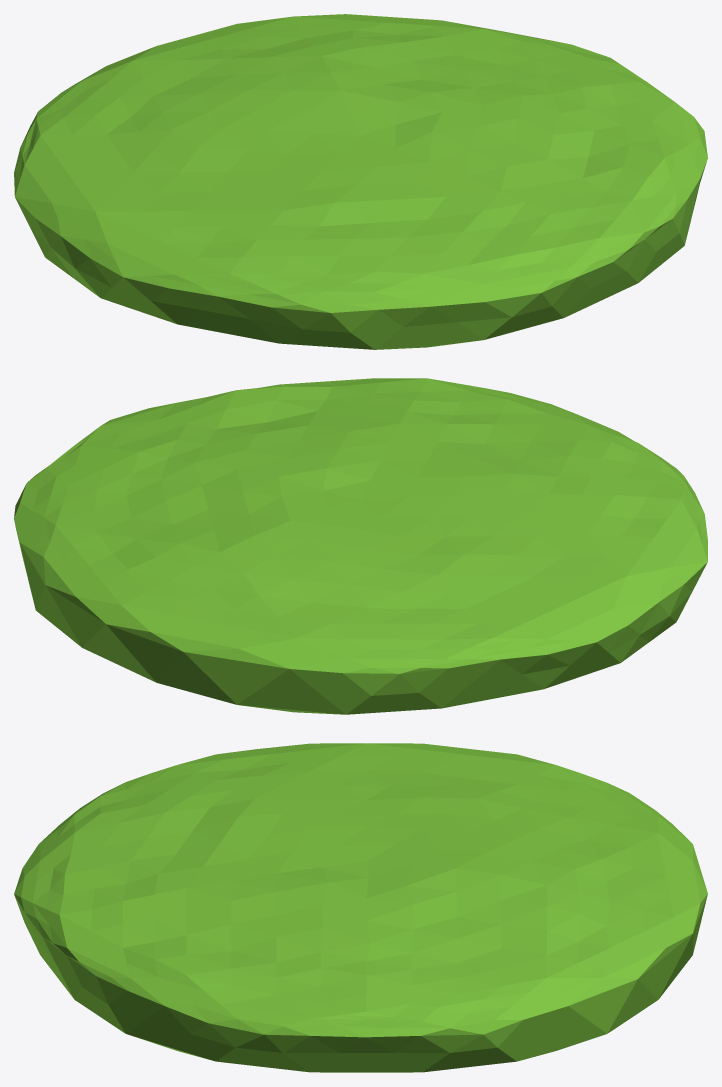
The model's file is Island-Surface.fbx.
3 views of the same model, one above another, from view 1: azimuth 30°, elevation 25°; view 2: azimuth 150°, elevation 25°; view 3: azimuth 270°, elevation 25° (orthographic).
Visible parts, largest first — view 1: Icosphere; view 2: Icosphere; view 3: Icosphere.
Boxes of the visible parts, x1,y1,x2,y2 form: Icosphere: (14,14,707,349); Icosphere: (14,378,707,714); Icosphere: (14,743,707,1072).
Bounding box in the file's own units: 1257 × 204 × 1262.
